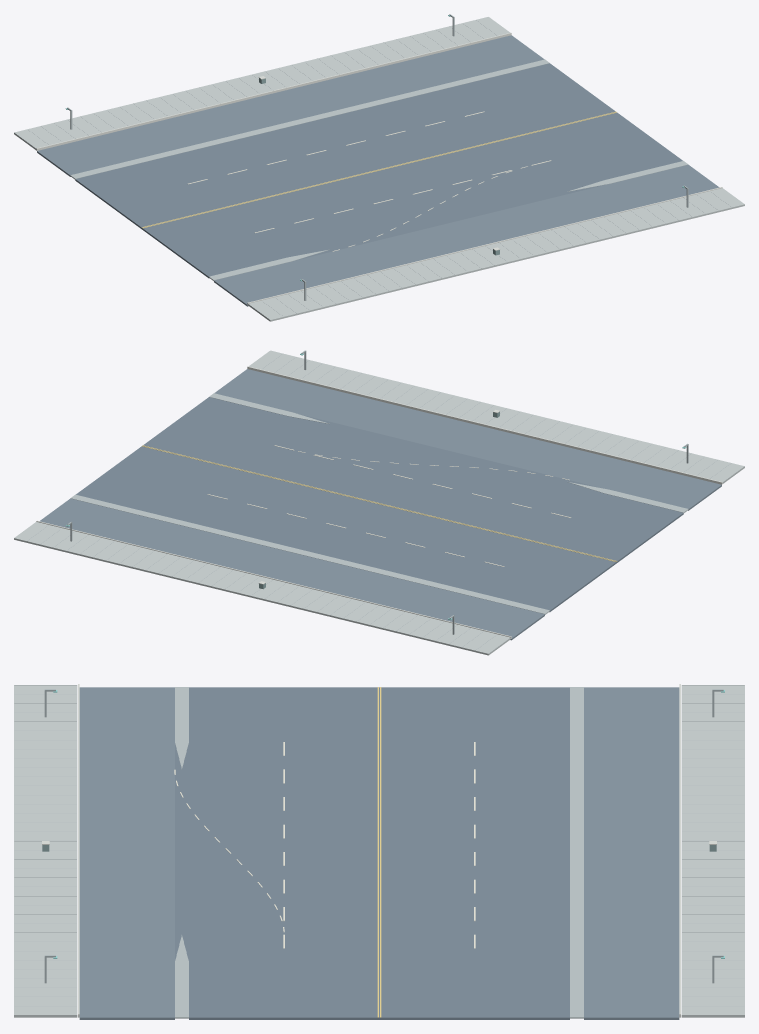
Rendered from city-w88-s59.glb.
3 renders of one model, top to bottom at view 1: azimuth 30°, elevation 25°; view 2: azimuth 150°, elevation 25°; view 3: azimuth 270°, elevation 25°, orthographic. The views are drawn at different scales.
Visible parts, largest first — view 1: Main_road, Frontage_roads, Sidewalk, Medians, Curbs, Paving_joints, Merge_surface, Center_lines; view 2: Main_road, Frontage_roads, Sidewalk, Medians, Curbs, Paving_joints, Merge_surface, Center_lines; view 3: Main_road, Frontage_roads, Sidewalk, Medians, Paving_joints, Merge_surface, Curbs, Center_lines.
Boxes of the visible parts, x1,y1,x2,y2 form: Main_road: (75,63,682,278); Frontage_roads: (37,35,719,306); Sidewalk: (14,17,744,321); Medians: (70,59,688,280); Curbs: (36,32,722,304); Paving_joints: (14,20,731,319); Merge_surface: (295,182,605,260); Center_lines: (142,111,616,228); Main_road: (76,397,683,612); Frontage_roads: (39,369,721,640); Sidewalk: (14,350,744,655); Medians: (70,393,688,614); Curbs: (36,366,722,638); Paving_joints: (27,354,744,653); Merge_surface: (290,414,603,492); Center_lines: (142,445,617,561); Main_road: (189,687,569,1019); Frontage_roads: (79,687,679,1019); Sidewalk: (14,685,744,1017); Medians: (175,687,583,1018); Paving_joints: (14,685,744,1006); Merge_surface: (175,743,188,960); Curbs: (78,684,680,1017); Center_lines: (377,687,381,1017).
Size of the model in its own units: 72 by 3.26 by 67.35.
